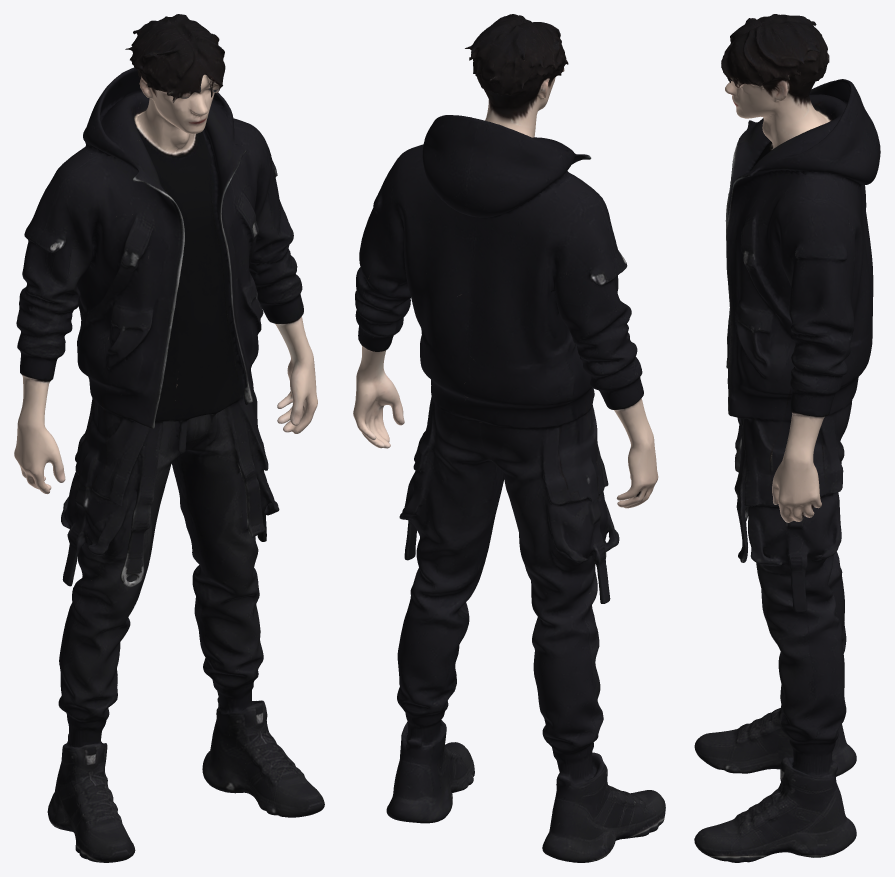
File: 변신모습.glb
3 renders of one model, left to right at view 1: azimuth 30°, elevation 25°; view 2: azimuth 150°, elevation 25°; view 3: azimuth 270°, elevation 25°, orthographic.
Size of the model in its own units: 0.7304 by 1.9 by 0.4048.
1 material, 1 textured.
